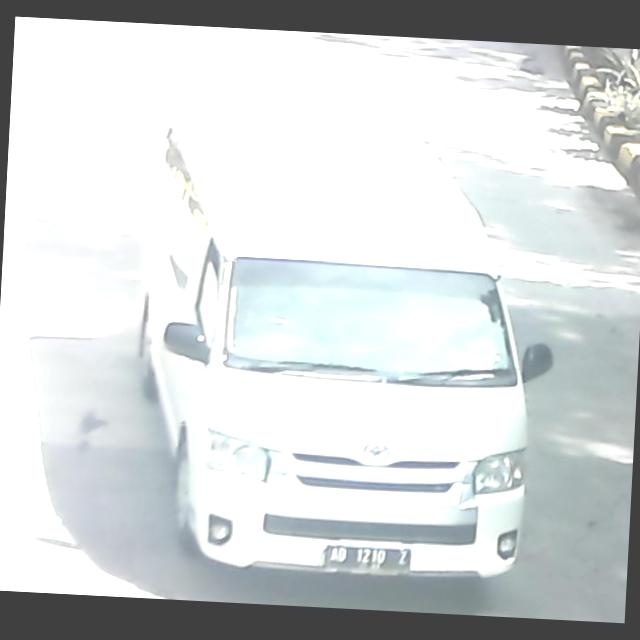plate: (321, 543, 412, 579)
